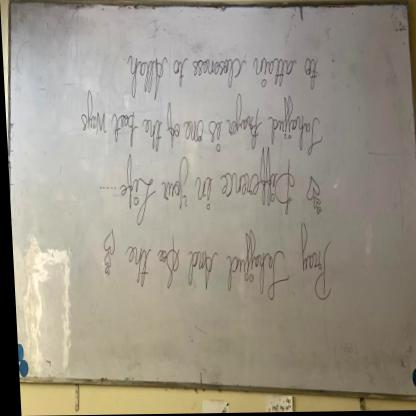Handwritten text: (118, 224, 339, 312), (79, 95, 330, 158), (116, 153, 297, 226), (120, 42, 330, 100)
Whiteboard: (10, 0, 416, 404)
